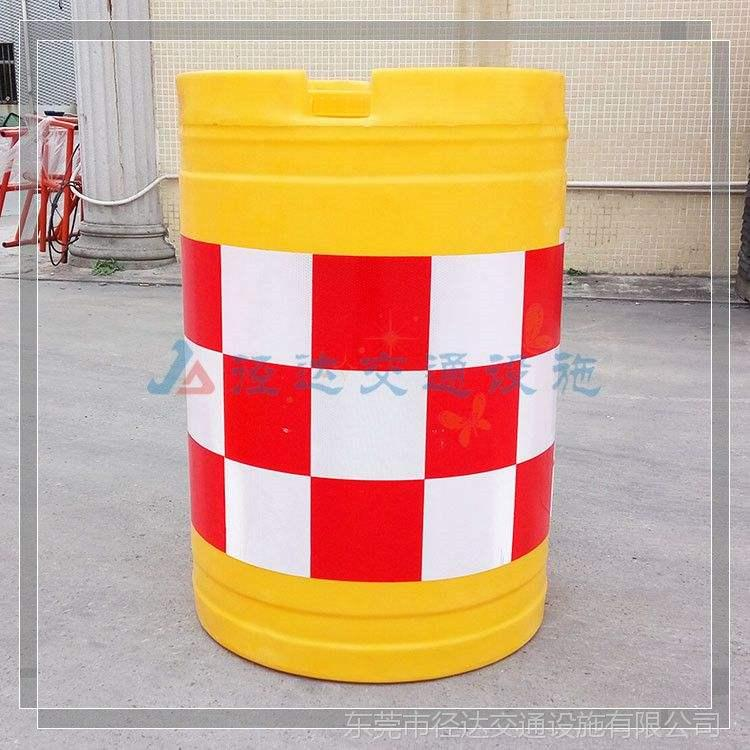sign: (158, 60, 586, 694)
